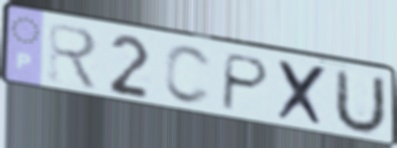2: (107, 33, 155, 103)
C: (161, 43, 215, 108)
P: (218, 50, 273, 114)
R: (46, 20, 101, 94)
U: (331, 66, 389, 138)
X: (275, 57, 331, 131)
